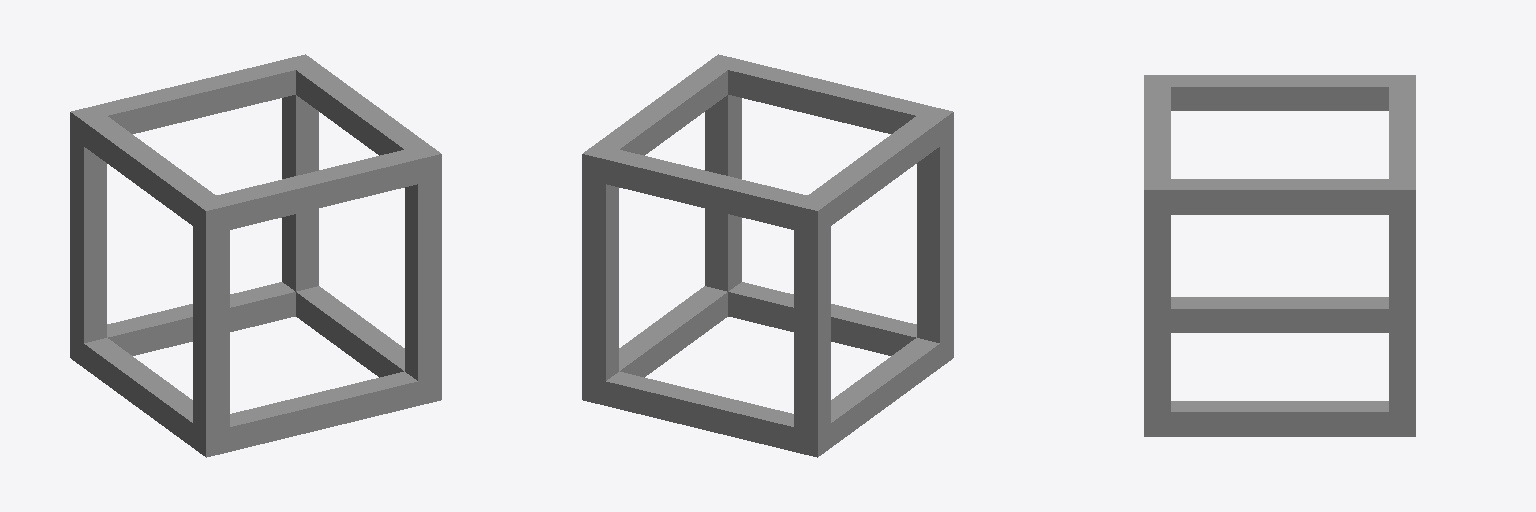
File: flicker_habitat_frame.obj
The picture shows the model from 3 angles: view 1: azimuth 30°, elevation 25°; view 2: azimuth 150°, elevation 25°; view 3: azimuth 270°, elevation 25°; orthographic projection.
Visible parts, largest first — view 1: frame; view 2: frame; view 3: frame.
Part boxes in pixels (left/top/right/bottom): frame: left=70, top=54, right=441, bottom=457; frame: left=582, top=54, right=953, bottom=457; frame: left=1144, top=75, right=1415, bottom=436.
Bounding box in the file's own units: 1 × 1 × 1.